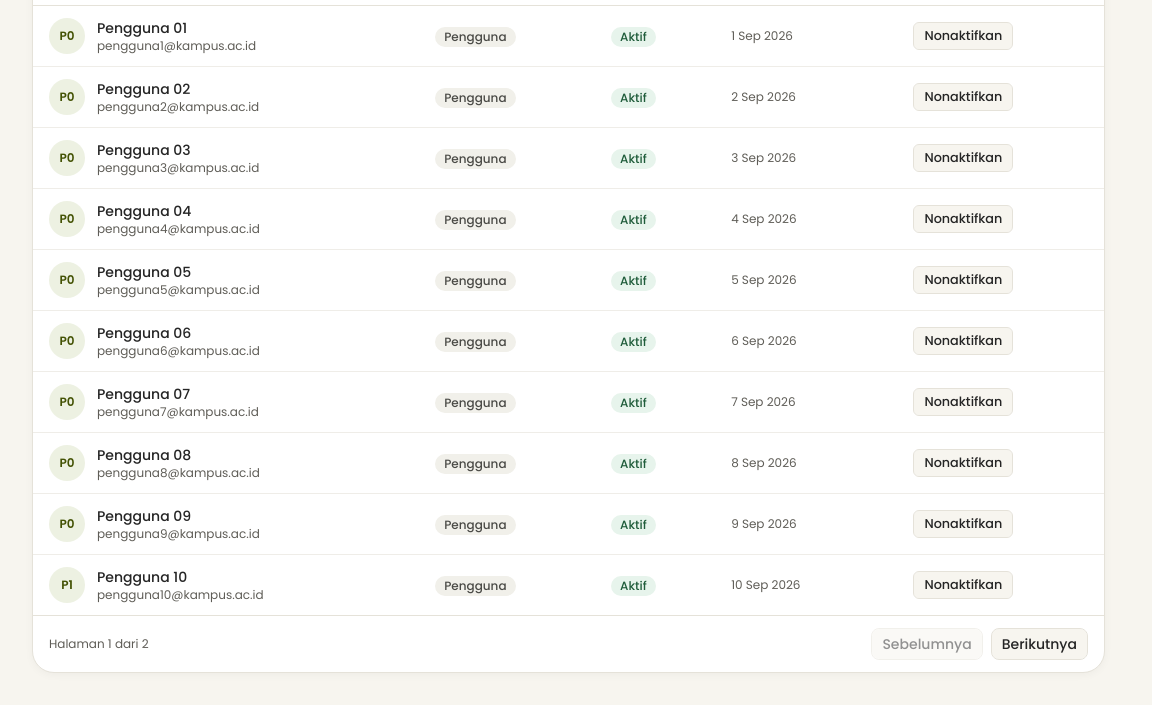
AdminUsers (kelola akun) › membagi daftar menjadi beberapa halaman
(page scrolled)
Expected: the text "Halaman 1 dari 2" is shown, [49,636,149,652]
Expected: the text "Pengguna 10" is shown, [97,567,187,587]
Click the button "Berikutnya" at (1039, 644), box [991,628,1088,660]
(page scrolled)
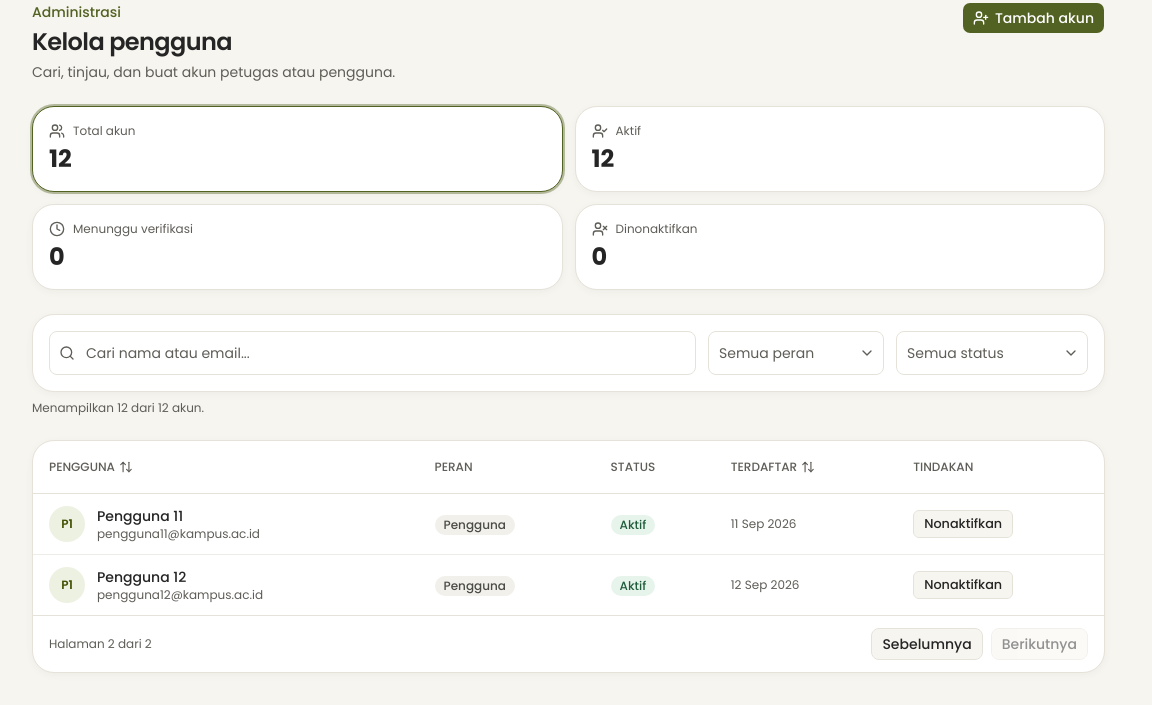
Result: the text "Halaman 2 dari 2" is shown at [49,636,152,652]
Result: the text "Pengguna 11" is shown at [97,506,183,526]
Result: the text "Pengguna 01" is gone
